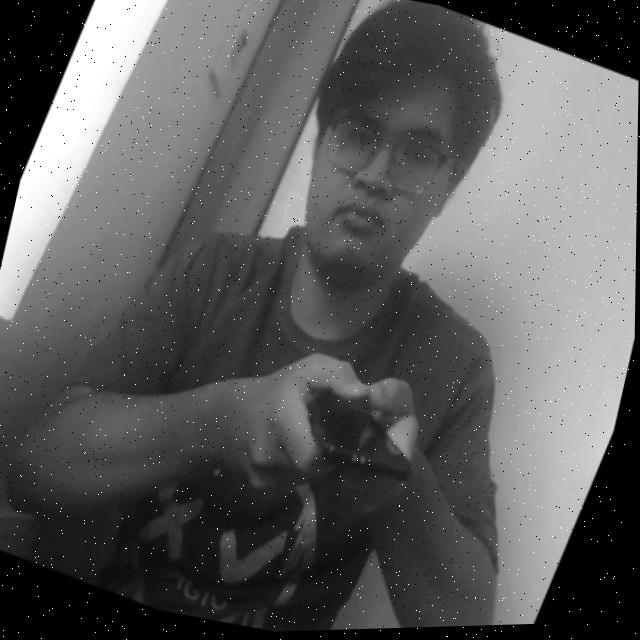phone: (264, 345, 458, 534)
